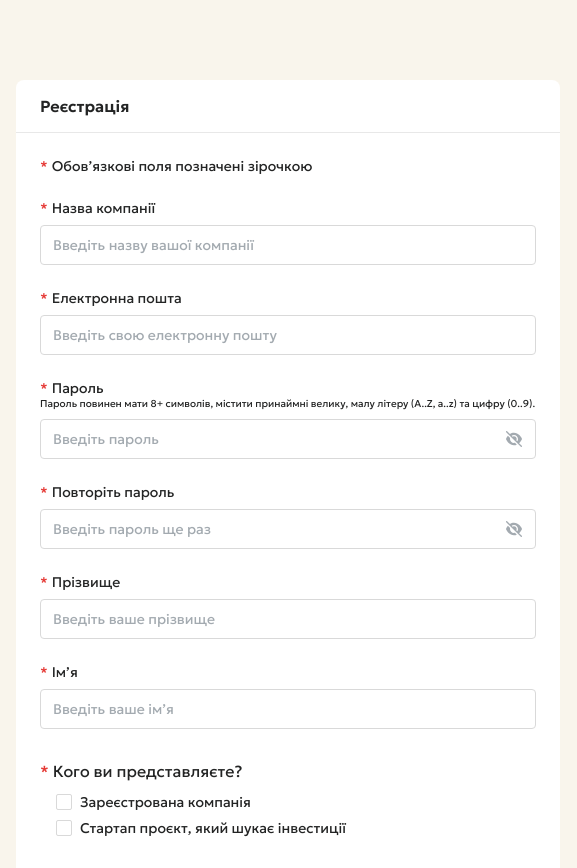
it: Register page › picks one option in each group
The width and height of the screenshot is (577, 868).
Click the radio button labelled "Зареєстрована компанія" at (64, 802), box [56,794,72,810]
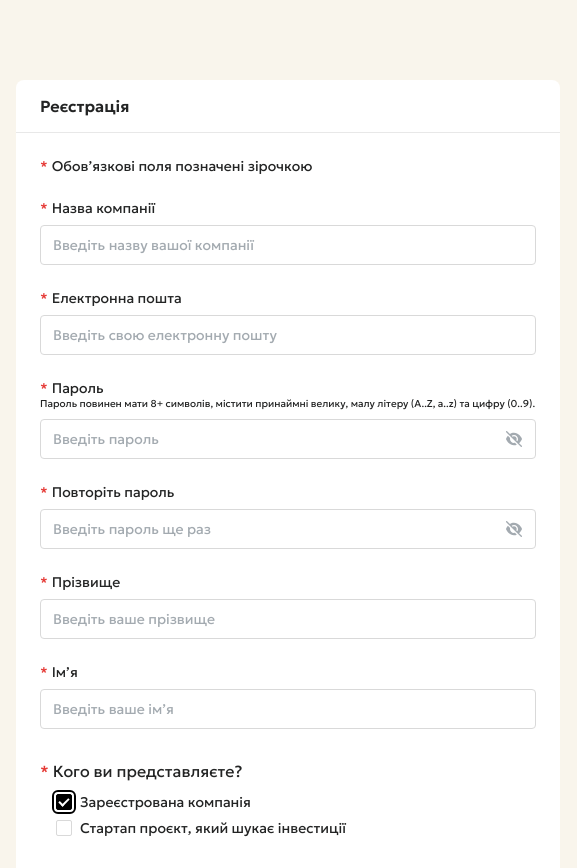
Click the radio button labelled "Стартап проєкт, який шукає інвестиції" at (64, 828), box [56,820,72,836]
(page scrolled)
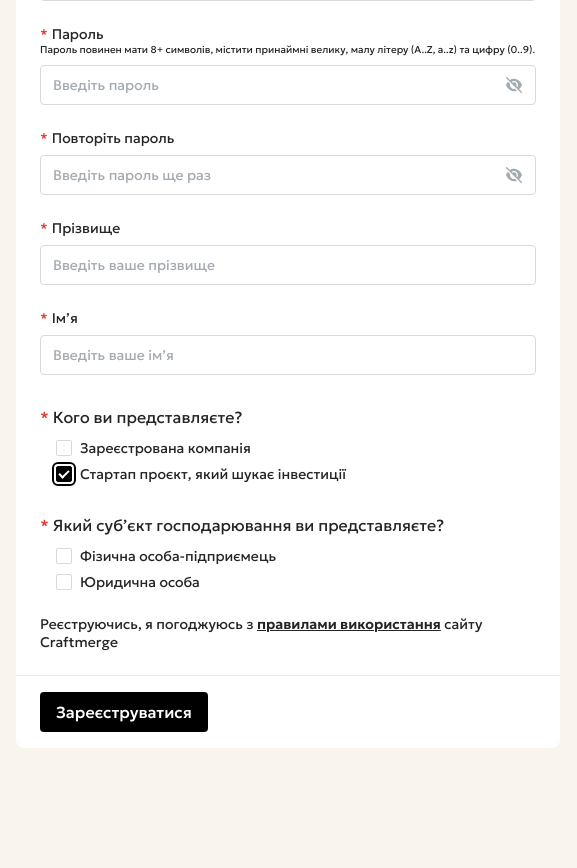
Result: the radio button labelled "Стартап проєкт, який шукає інвестиції" is checked at [56,466,72,482]
Result: the radio button labelled "Зареєстрована компанія" is not checked at [56,440,72,456]
Click the radio button labelled "Юридична особа" at (64, 582), box [56,574,72,590]
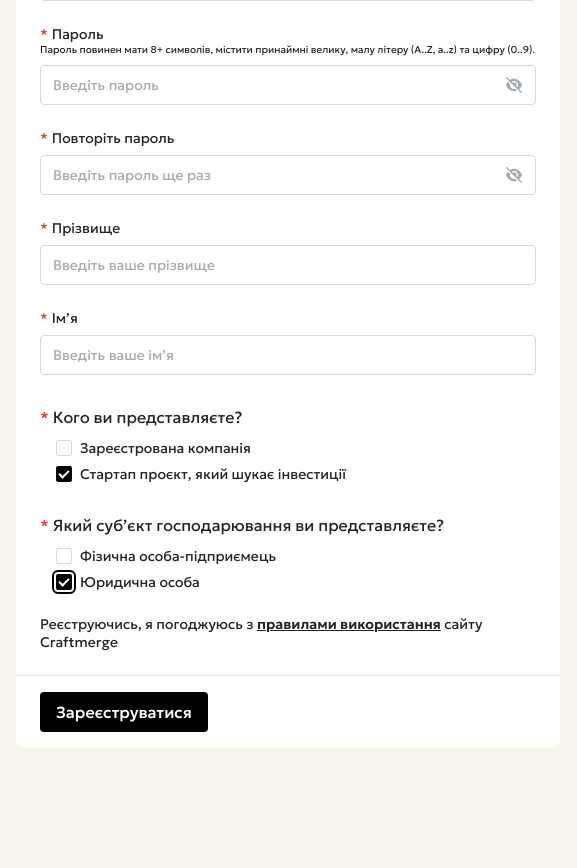
Result: the radio button labelled "Юридична особа" is checked at [56,574,72,590]
Result: the radio button labelled "Стартап проєкт, який шукає інвестиції" is checked at [56,466,72,482]
